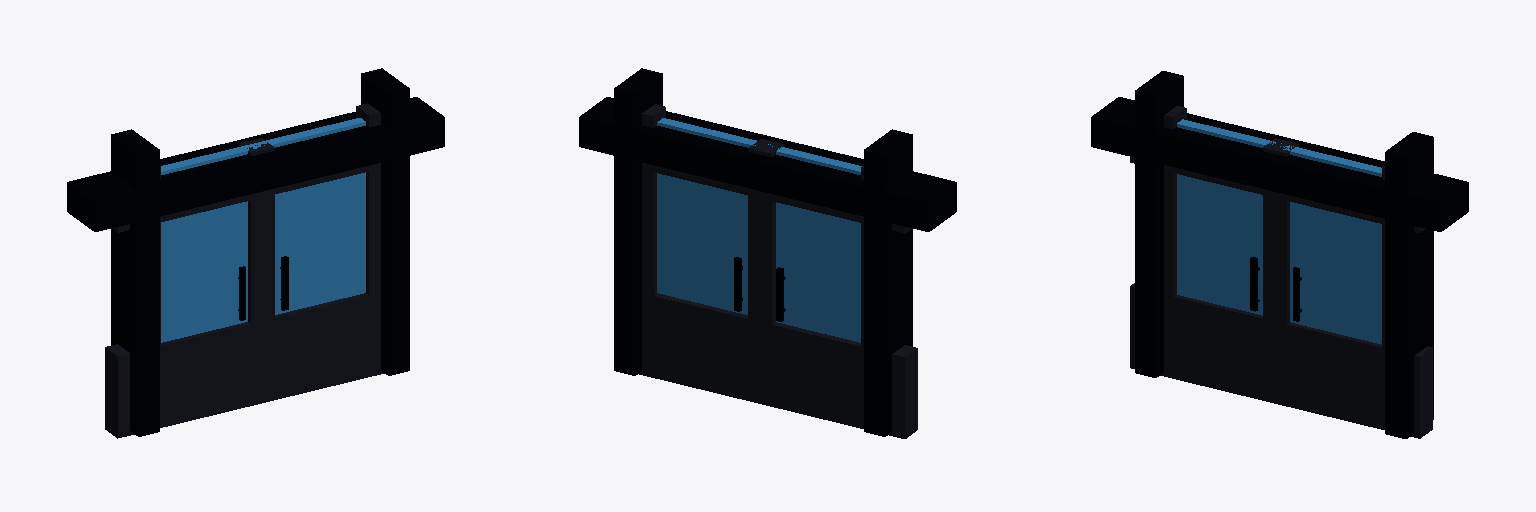
Rendered from door.obj.
3 views of the same model, side by side, from view 1: azimuth 30°, elevation 25°; view 2: azimuth 150°, elevation 25°; view 3: azimuth 330°, elevation 25° (orthographic).
Parts seen in each view (by area): view 1: Part14, Part1, Part17, Part2, Part13, Part15, Part10, Part16; view 2: Part14, Part1, Part17, Part2, Part13, Part15, Part10, Part16; view 3: Part14, Part1, Part17, Part13, Part2, Part15, Part3, Part16.
Boxes of the visible parts, box(x1,y1,x2,y2) form: Part14: box(161, 118, 365, 342); Part1: box(105, 293, 384, 438); Part17: box(67, 97, 444, 231); Part2: box(111, 129, 159, 436); Part13: box(361, 68, 409, 375); Part15: box(238, 138, 274, 349); Part10: box(356, 103, 380, 372); Part16: box(112, 164, 378, 232); Part14: box(657, 118, 861, 342); Part1: box(639, 293, 917, 438); Part17: box(579, 97, 956, 231); Part2: box(864, 129, 912, 436); Part13: box(614, 68, 662, 375); Part15: box(748, 139, 784, 350); Part10: box(642, 104, 665, 372); Part16: box(654, 166, 911, 233); Part14: box(1177, 119, 1381, 344); Part1: box(1130, 283, 1432, 438); Part17: box(1091, 97, 1468, 231); Part13: box(1385, 132, 1433, 438); Part2: box(1135, 71, 1183, 377); Part15: box(1263, 138, 1299, 323); Part3: box(1164, 106, 1186, 372); Part16: box(1130, 157, 1424, 232).
Size of the model in its own units: 17.59 by 13.74 by 2.45.